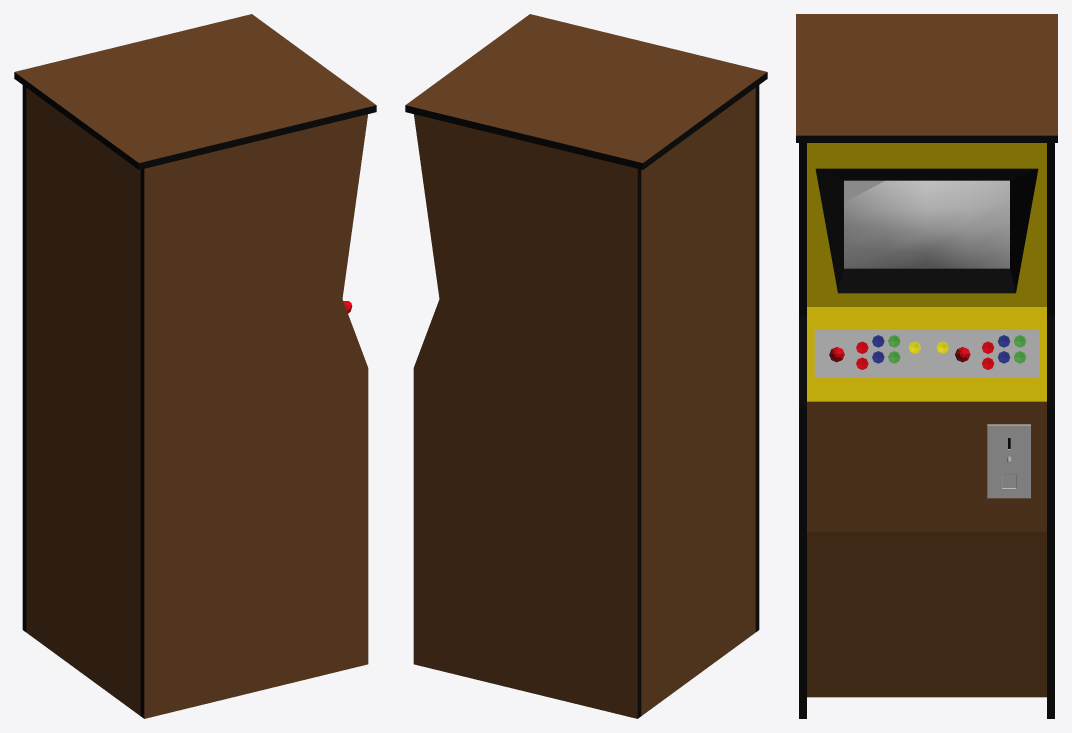
Rendered from Arcade Machine1.fbx.
3 renders of one model, left to right at view 1: azimuth 30°, elevation 25°; view 2: azimuth 150°, elevation 25°; view 3: azimuth 270°, elevation 25°, orthographic. The views are drawn at different scales.
Visible parts, largest first — view 1: PONG Machine; view 2: PONG Machine; view 3: PONG Machine, Secondary Screen, Player Input Panel, Money Plate, Buttons, LED Screen.
Part boxes in pixels (bbox=[...]): PONG Machine: bbox=[14, 14, 376, 718]; PONG Machine: bbox=[405, 14, 767, 718]; PONG Machine: bbox=[796, 14, 1057, 718]; Secondary Screen: bbox=[844, 180, 1009, 268]; Player Input Panel: bbox=[814, 329, 1039, 377]; Money Plate: bbox=[987, 424, 1030, 498]; Buttons: bbox=[856, 335, 1026, 369]; LED Screen: bbox=[844, 180, 884, 202].
Size of the model in its own units: 0.9014 by 2.03 by 0.819.
